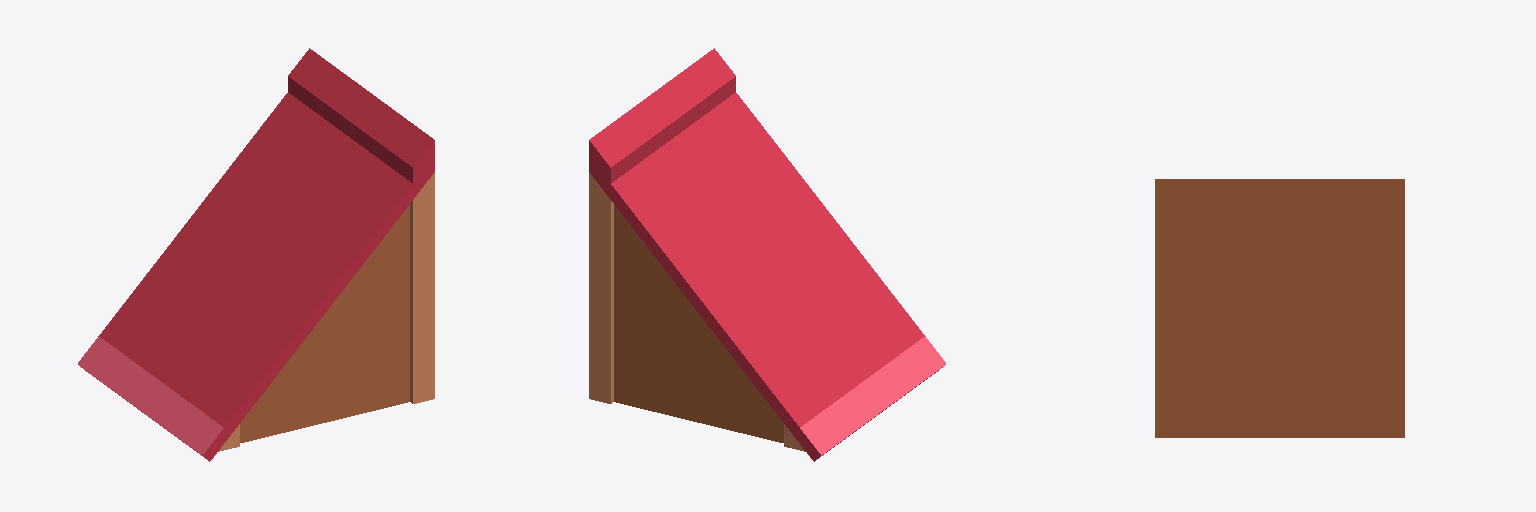
The model's file is roofHigh.obj.
The picture shows the model from 3 angles: view 1: azimuth 30°, elevation 25°; view 2: azimuth 150°, elevation 25°; view 3: azimuth 270°, elevation 25°; orthographic projection.
Visible parts, largest first — view 1: roofHigh; view 2: roofHigh; view 3: roofHigh.
Boxes of the visible parts, <box> form: roofHigh: <box>78,48,434,461</box>; roofHigh: <box>589,48,945,461</box>; roofHigh: <box>1155,179,1404,437</box>.
Bounding box in the file's own units: 1.07 × 1.18 × 1.